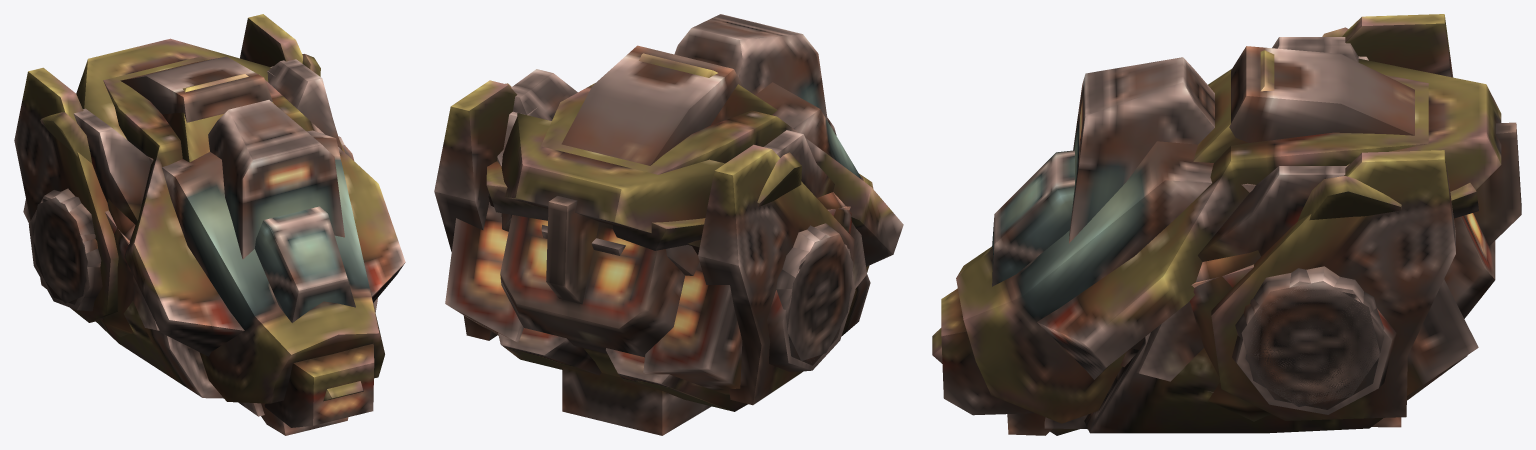
The model's file is Cockpits.fbx.
3 views of the same model, side by side, from view 1: azimuth 30°, elevation 25°; view 2: azimuth 150°, elevation 25°; view 3: azimuth 270°, elevation 25° (orthographic). The views are drawn at different scales.
Visible parts, largest first — view 1: Geom_Cockpit_copter, Geom_Cockpit_fox, Geom_Cockpit_tractor, Geom_Cockpit_jet; view 2: Geom_Cockpit_copter, Geom_Cockpit_fox, Geom_Cockpit_tractor, Geom_Cockpit_jet; view 3: Geom_Cockpit_copter, Geom_Cockpit_fox, Geom_Cockpit_tractor, Geom_Cockpit_jet.
Boxes of the visible parts, bbox=[...] form: Geom_Cockpit_copter: bbox=[14, 14, 384, 427]; Geom_Cockpit_fox: bbox=[33, 56, 405, 435]; Geom_Cockpit_tractor: bbox=[23, 66, 344, 416]; Geom_Cockpit_jet: bbox=[31, 54, 377, 401]; Geom_Cockpit_copter: bbox=[434, 45, 873, 405]; Geom_Cockpit_fox: bbox=[497, 53, 903, 435]; Geom_Cockpit_tractor: bbox=[445, 14, 866, 394]; Geom_Cockpit_jet: bbox=[486, 83, 870, 411]; Geom_Cockpit_copter: bbox=[941, 14, 1521, 423]; Geom_Cockpit_fox: bbox=[992, 37, 1428, 435]; Geom_Cockpit_tractor: bbox=[1044, 56, 1478, 429]; Geom_Cockpit_jet: bbox=[932, 27, 1478, 435].
Bounding box in the file's own units: 162 × 155 × 237.
Materials: 1 (1 with a texture image).
